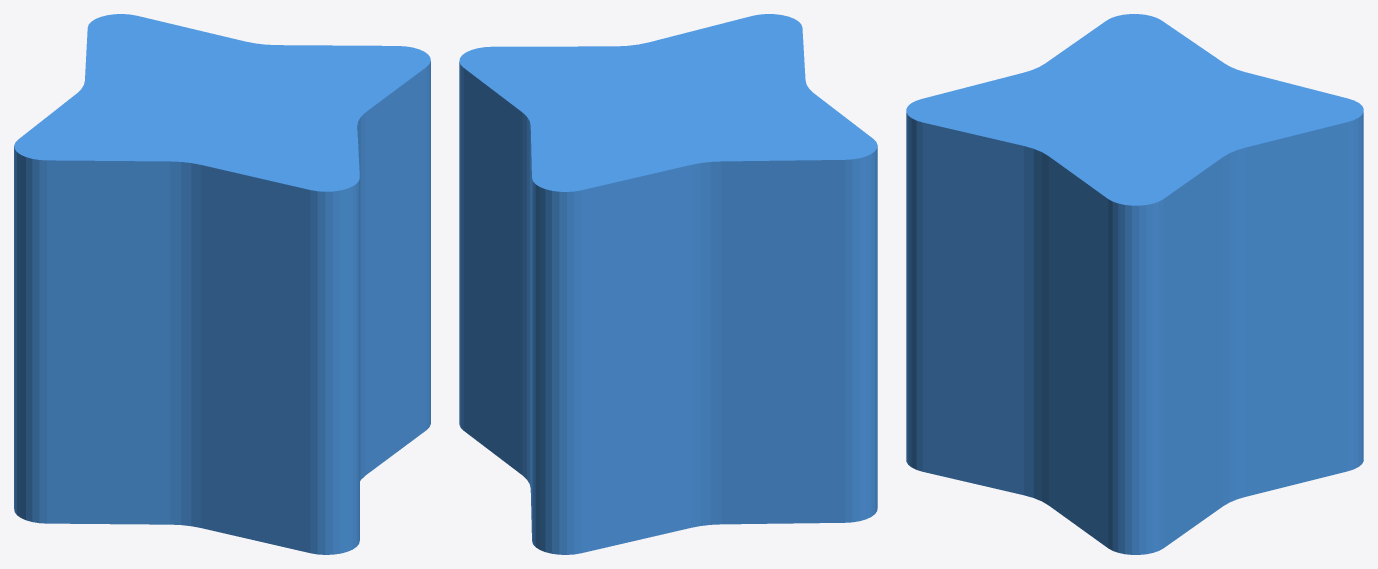
The picture shows the model from 3 angles, left to right: view 1: azimuth 30°, elevation 25°; view 2: azimuth 150°, elevation 25°; view 3: azimuth 270°, elevation 25°; orthographic projection. The views are drawn at different scales.
Parts seen in each view (by area): view 1: node0; view 2: node0; view 3: node0.
Boxes of the visible parts, x1=… form: node0: x1=14, y1=14, x2=430, y2=554; node0: x1=459, y1=14, x2=877, y2=554; node0: x1=906, y1=14, x2=1363, y2=554.
Size of the model in its own units: 0.0706 by 0.0712 by 0.06.
